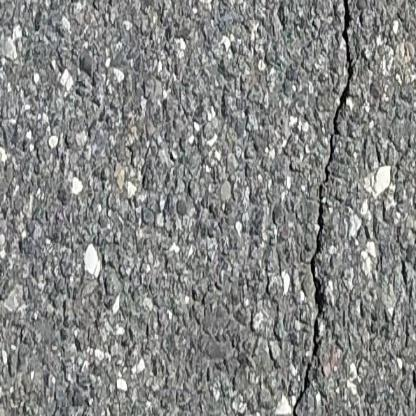Cracks: (290, 0, 361, 416)
